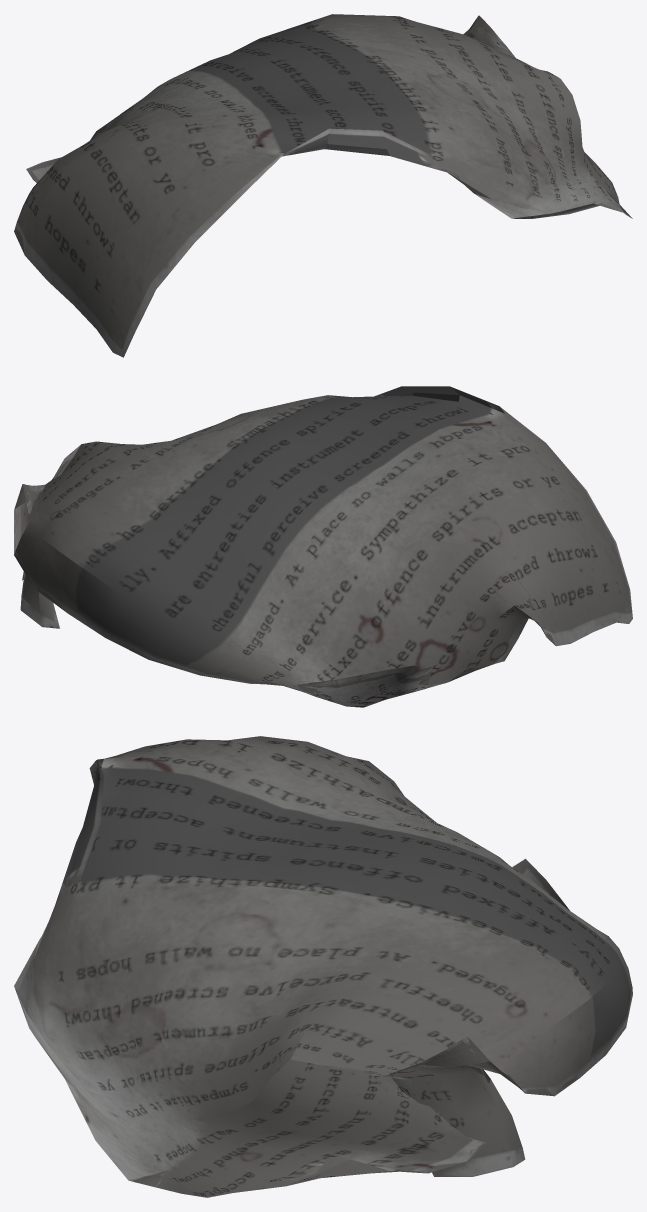
Rendered from SM_Crumpled_Paper_01e.fbx.
The picture shows the model from 3 angles, top to bottom: view 1: azimuth 30°, elevation 25°; view 2: azimuth 150°, elevation 25°; view 3: azimuth 270°, elevation 25°; orthographic projection. The views are drawn at different scales.
Parts seen in each view (by area): view 1: SM_Crumpled_Paper_01e_LOD0; view 2: SM_Crumpled_Paper_01e_LOD0; view 3: SM_Crumpled_Paper_01e_LOD0.
Part boxes in pixels (x1,y1,x2,y2): SM_Crumpled_Paper_01e_LOD0: [14, 14, 632, 357]; SM_Crumpled_Paper_01e_LOD0: [14, 386, 632, 707]; SM_Crumpled_Paper_01e_LOD0: [14, 736, 632, 1197].
Bounding box in the file's own units: 7.73 × 6.15 × 2.54.
